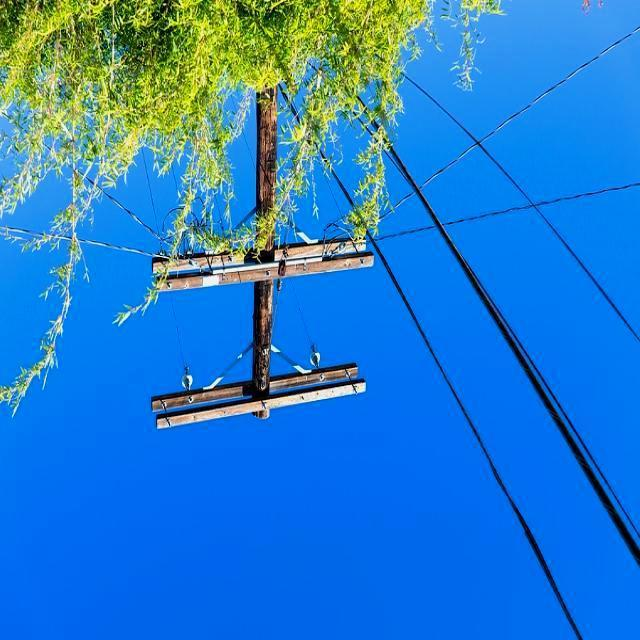critical vegetation: (74, 53, 389, 446)
